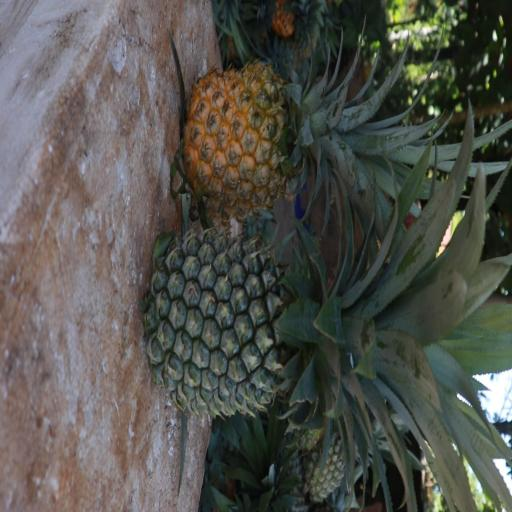Pineapple - v8 v1: (183, 62, 422, 214)
